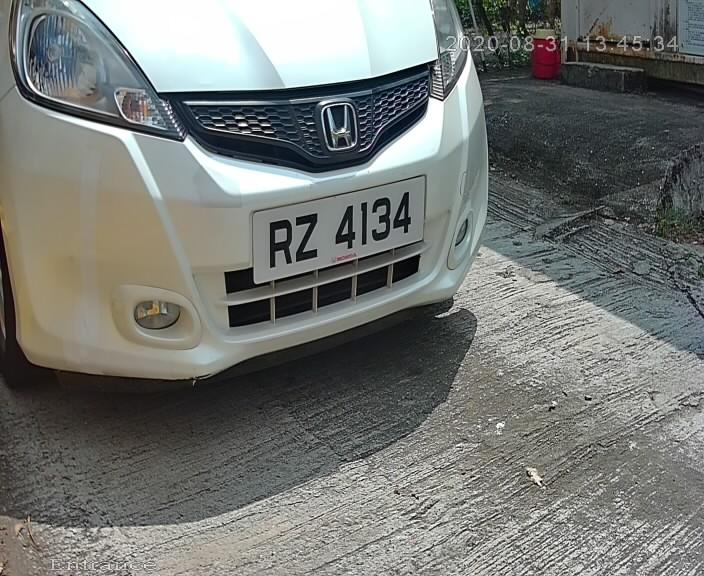License Plate: (252, 175, 425, 283)
